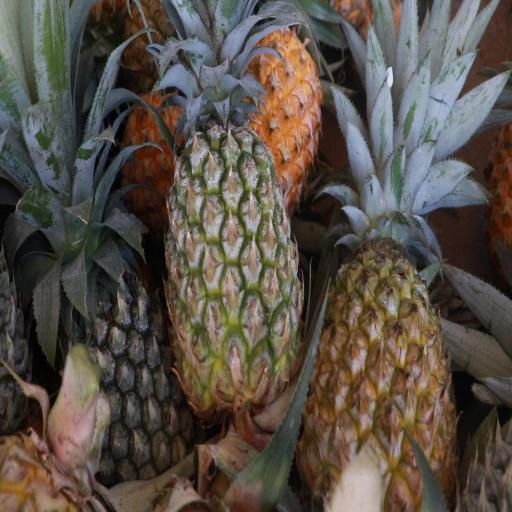------------------------------: (166, 118, 296, 408)
Pineapple - v8 v1: (301, 179, 451, 512), (163, 6, 323, 167)
